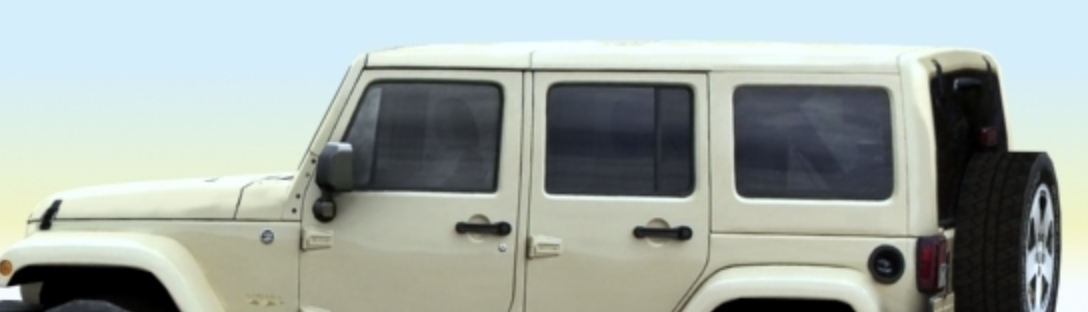hatch: (863, 240, 911, 293)
